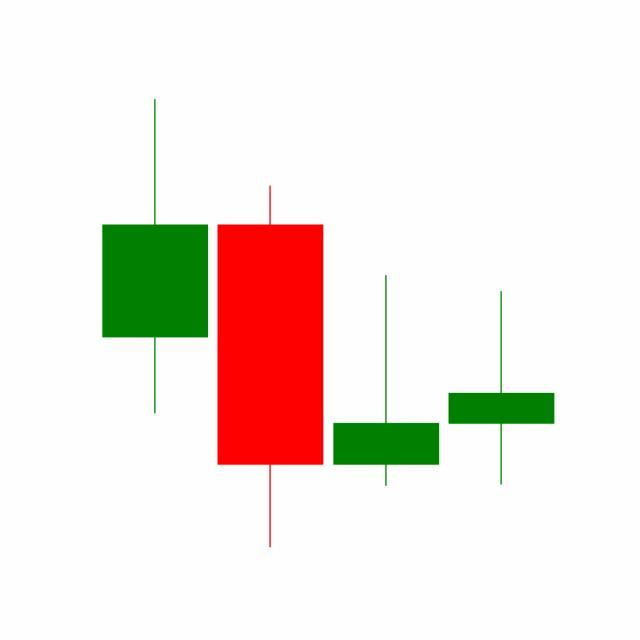Spinning Top: (444, 290, 560, 488)
